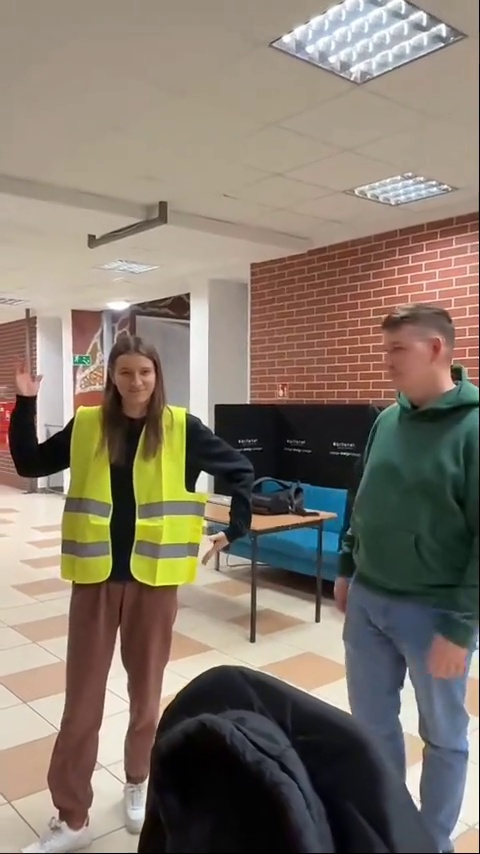no vest: (326, 302, 480, 830)
vest: (4, 340, 260, 849)
